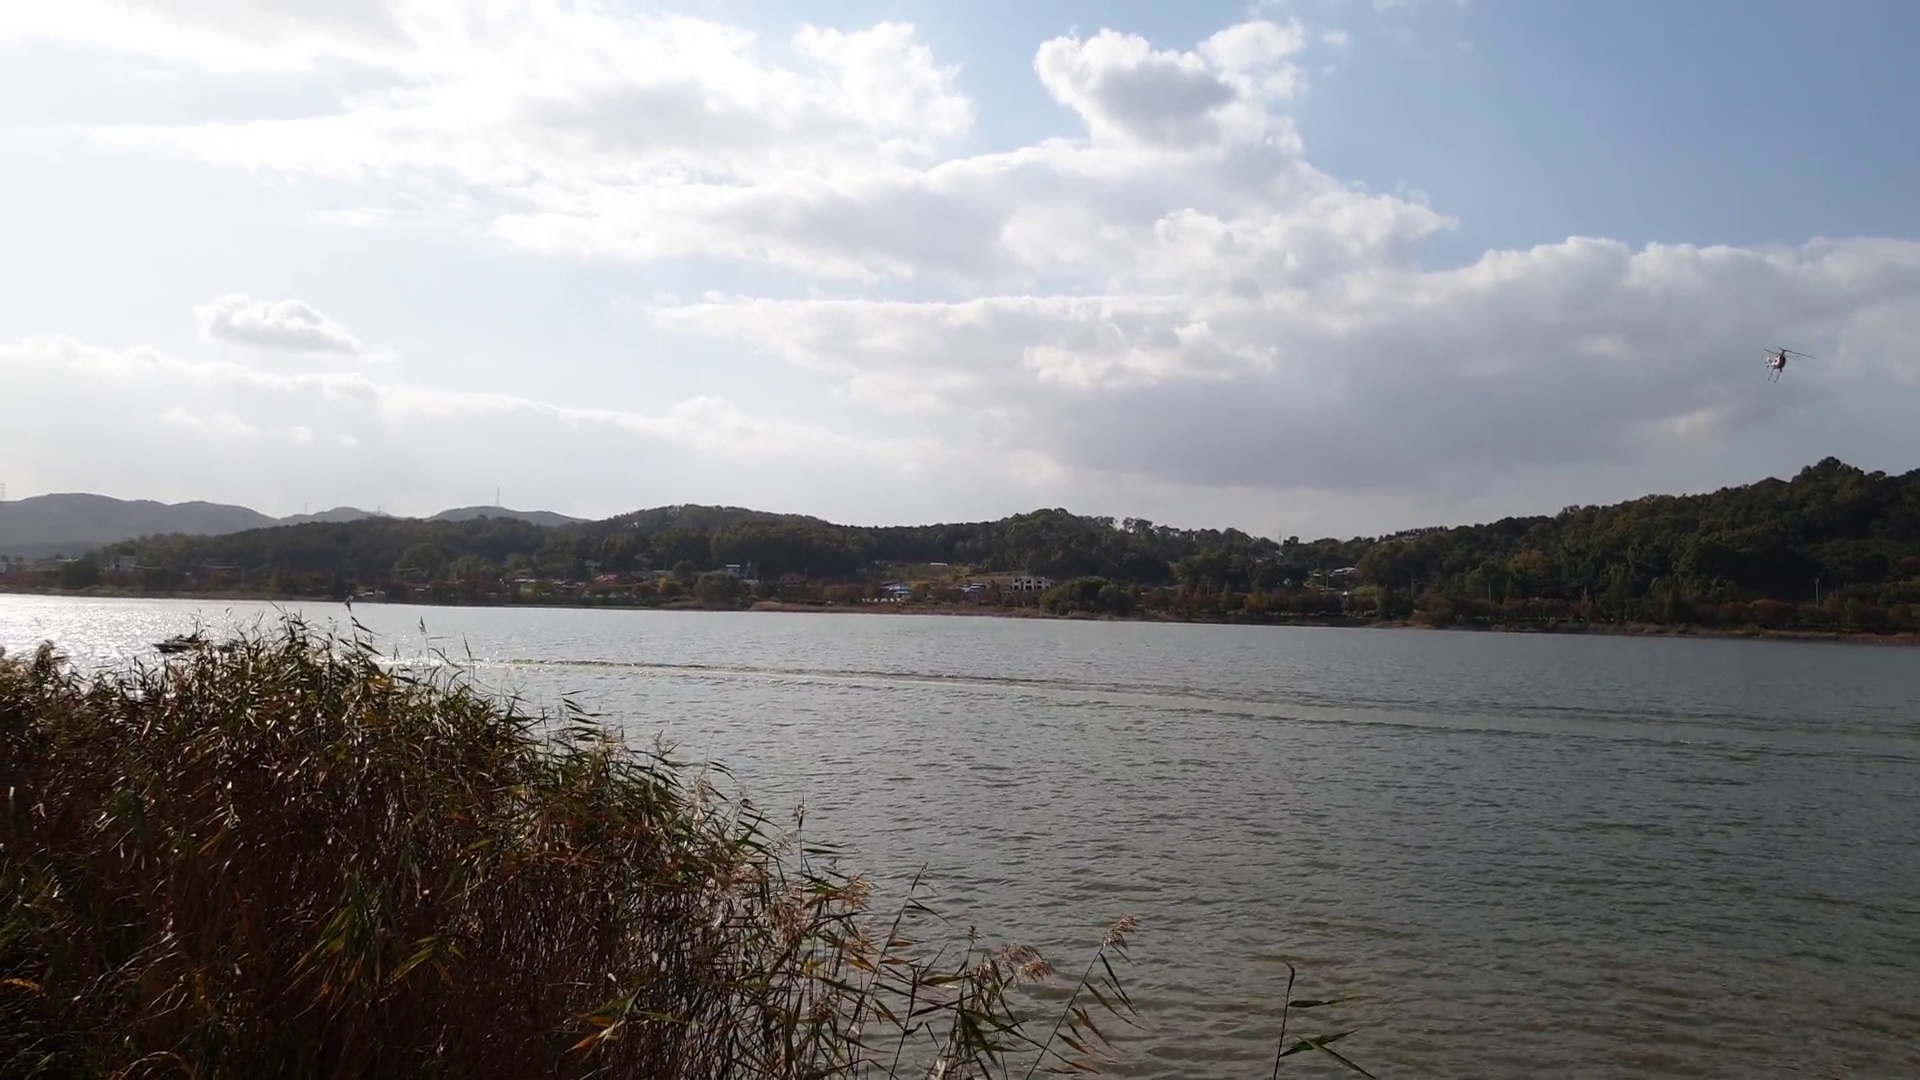heli: (1762, 344, 1816, 372)
